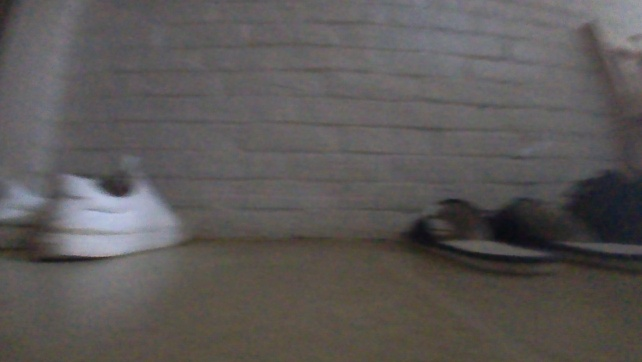shoe: (26, 164, 193, 262)
